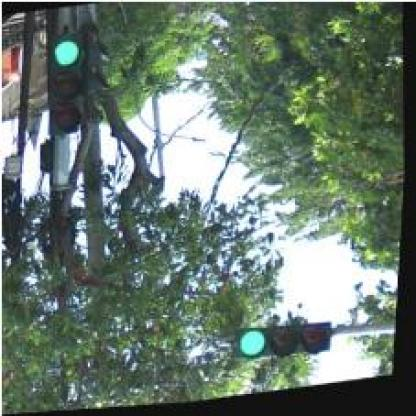green: (41, 31, 91, 138), (238, 324, 337, 366)
